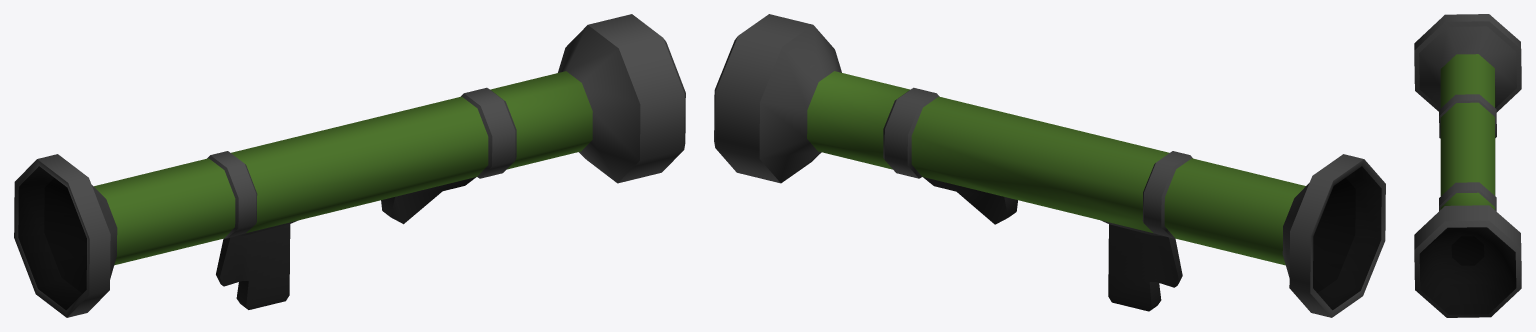
File: bazoka (2).fbx
3 views of the same model, side by side, from view 1: azimuth 30°, elevation 25°; view 2: azimuth 150°, elevation 25°; view 3: azimuth 270°, elevation 25° (orthographic). The views are drawn at different scales.
Visible parts, largest first — view 1: Bazooka; view 2: Bazooka; view 3: Bazooka.
Part boxes in pixels (x1,y1,x2,y2): Bazooka: (14, 14, 685, 317); Bazooka: (714, 14, 1385, 317); Bazooka: (1414, 14, 1521, 317).
Size of the model in its own units: 115 by 34.06 by 25.21.
Materials: 1 (1 with a texture image).
